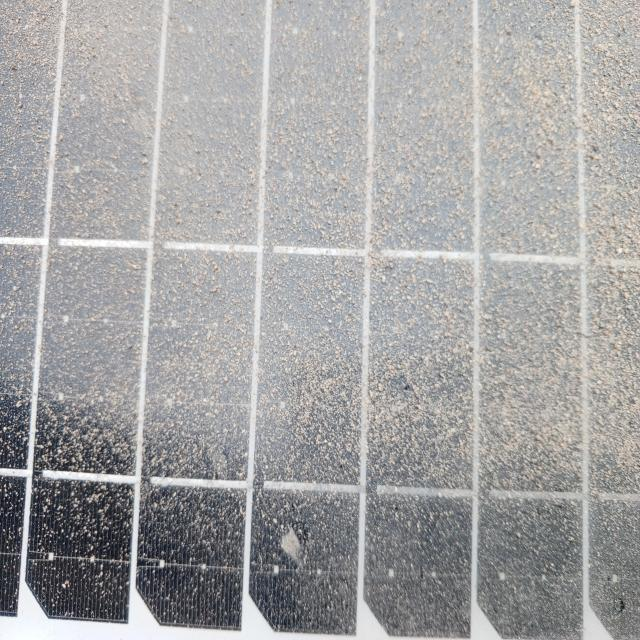Anomaly Solar Panel: (3, 104, 639, 636)
Surface Contaminant: (3, 104, 639, 636)
